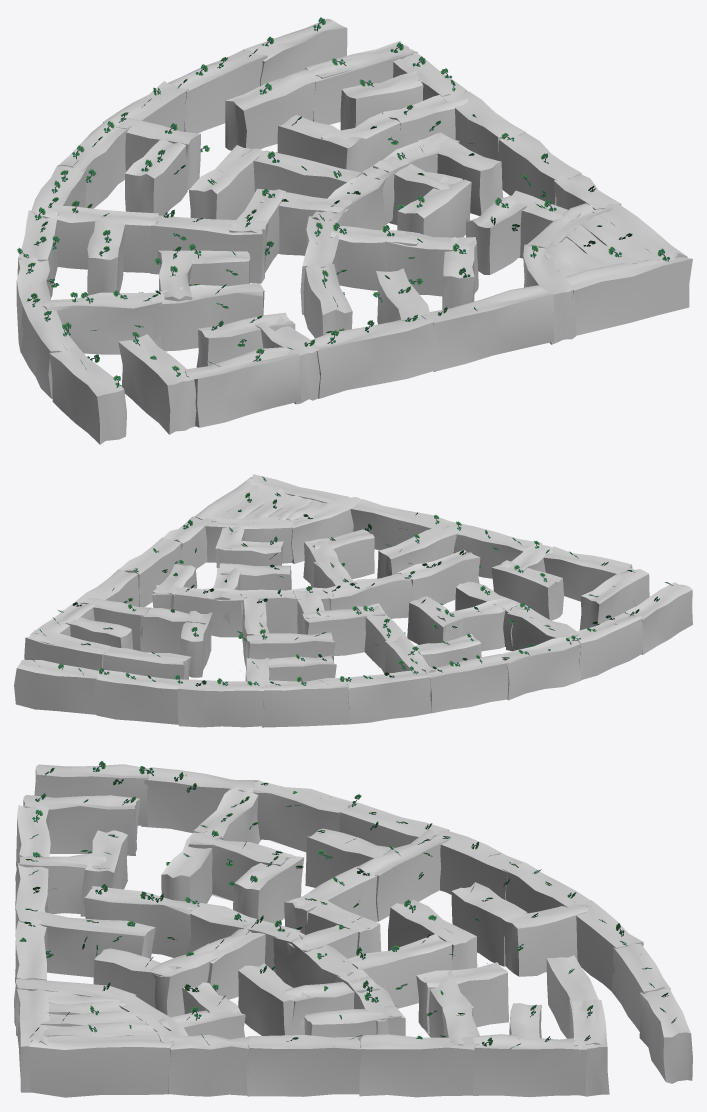
The model's file is Maze.FBX.
3 views of the same model, one above another, from view 1: azimuth 30°, elevation 25°; view 2: azimuth 150°, elevation 25°; view 3: azimuth 270°, elevation 25° (orthographic). The views are drawn at different scales.
Parts seen in each view (by area): view 1: Bush, Braches; view 2: Bush, Braches; view 3: Bush, Braches.
Boxes of the visible parts, x1,y1,x2,y2 form: Bush: (16, 18, 692, 444); Braches: (17, 17, 669, 387); Bush: (14, 474, 692, 727); Braches: (31, 476, 672, 686); Bush: (14, 764, 692, 1097); Braches: (19, 761, 676, 1049).
Bounding box in the file's own units: 4028 × 422 × 3999.
